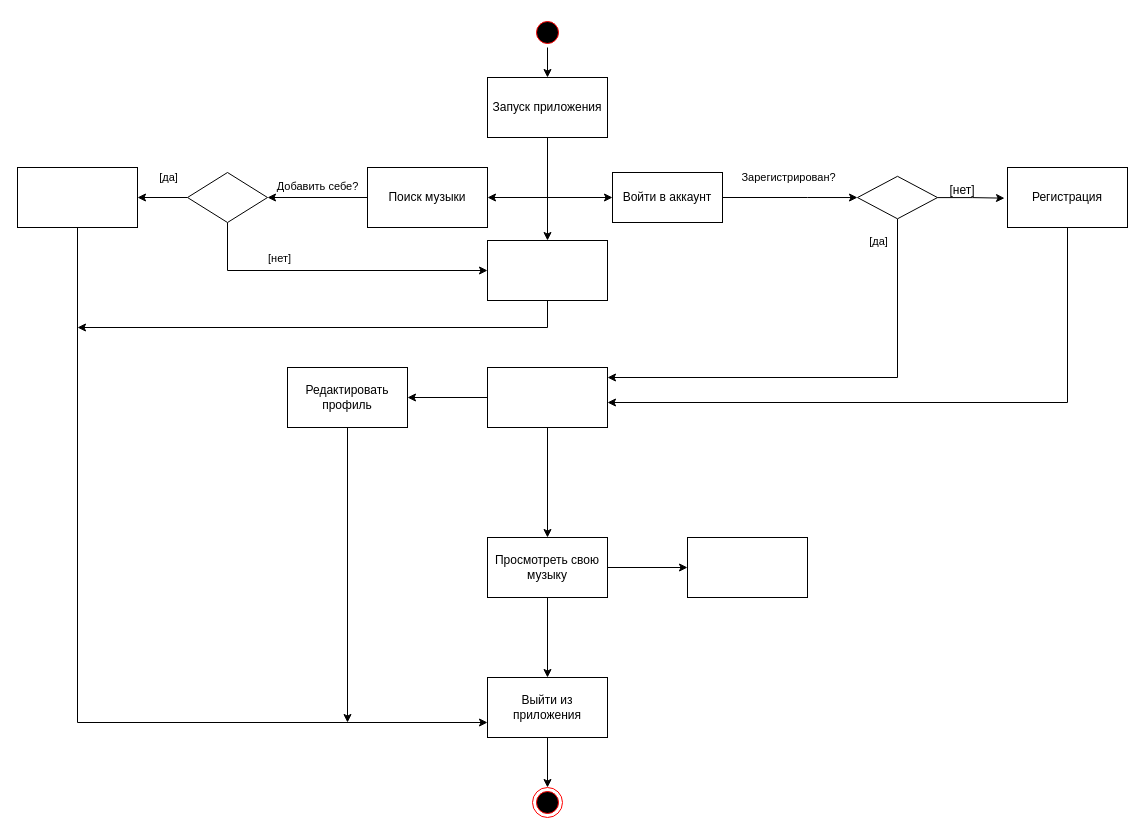
Some shapes in this 1145 by 835 pixel diagram are drawn without their labels. Here are the shapes that lost their labels. From the top down, the centre of each, then its label:
At pixel 77 197: "Добавить себе музыку".
At pixel 547 270: "Прослушать музыку".
At pixel 547 397: "Вход в аккаунт".
At pixel 747 567: "Удалить музыку из профиля".
